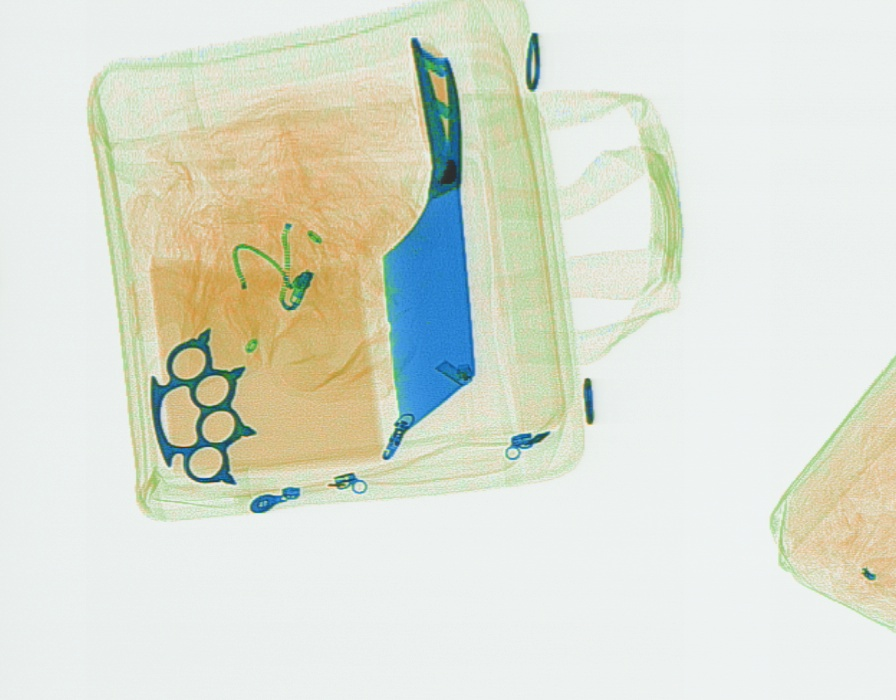knife: (368, 35, 479, 431)
